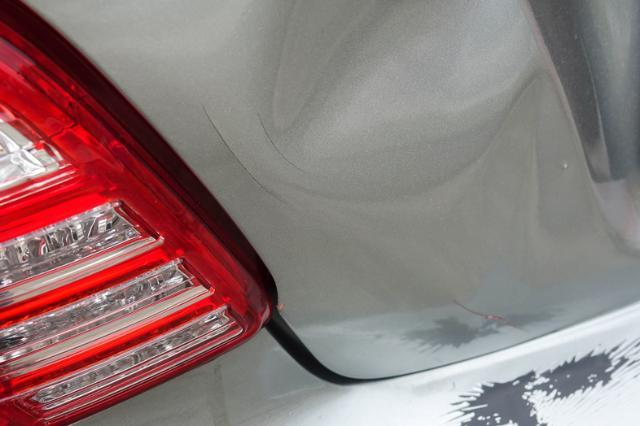Bumper: (316, 362, 640, 426)
Dickey: (199, 1, 640, 192)
